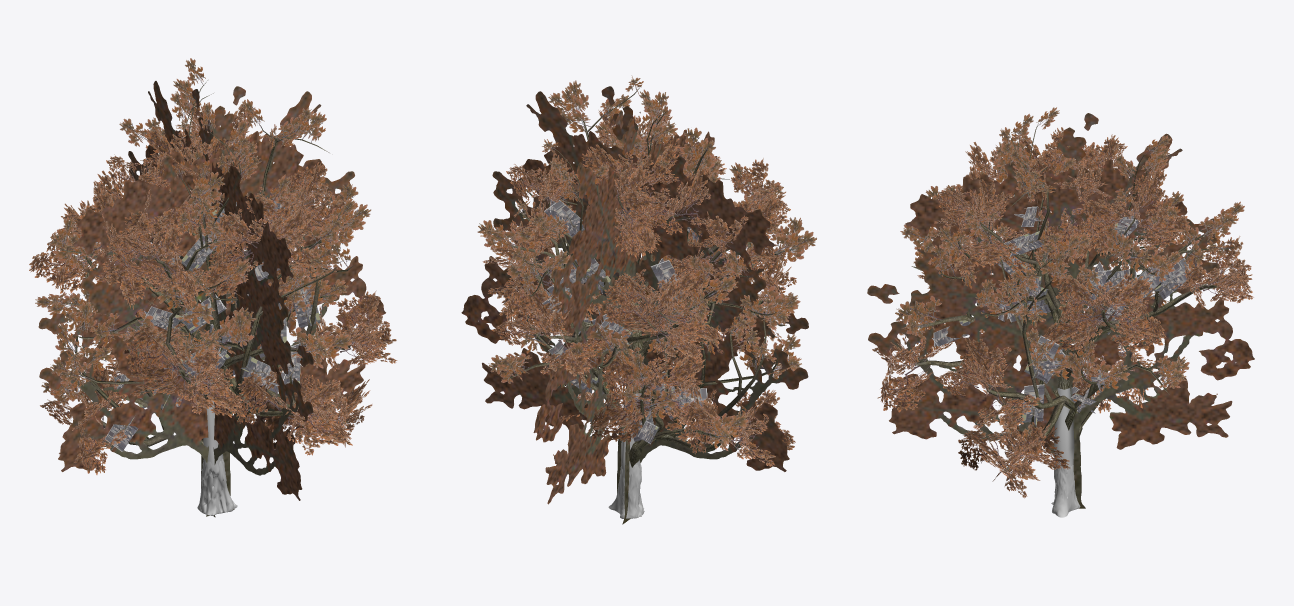
File: Tree-Oak4C.fbx
The picture shows the model from 3 angles, left to right: view 1: azimuth 30°, elevation 25°; view 2: azimuth 150°, elevation 25°; view 3: azimuth 270°, elevation 25°; orthographic projection. The views are drawn at different scales.
Parts seen in each view (by area): view 1: Tree-Oak4C_LOD0, Billboard-Oak4C; view 2: Tree-Oak4C_LOD0, Billboard-Oak4C; view 3: Tree-Oak4C_LOD0, Billboard-Oak4C.
Part boxes in pixels (x1=…): Tree-Oak4C_LOD0: x1=29, y1=58, x2=397, y2=515; Billboard-Oak4C: x1=38, y1=81, x2=385, y2=517; Tree-Oak4C_LOD0: x1=477, y1=75, x2=816, y2=518; Billboard-Oak4C: x1=461, y1=86, x2=808, y2=524; Tree-Oak4C_LOD0: x1=872, y1=107, x2=1253, y2=517; Billboard-Oak4C: x1=867, y1=113, x2=1254, y2=508.
Size of what is drawn, in the model's own units: 2745 by 3164 by 2982.
